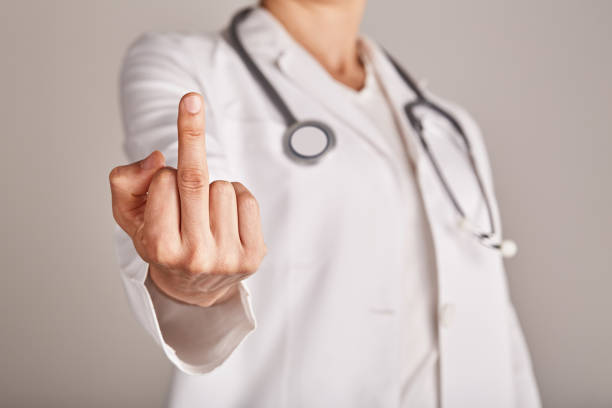insulting_gesture: (108, 90, 267, 293)
